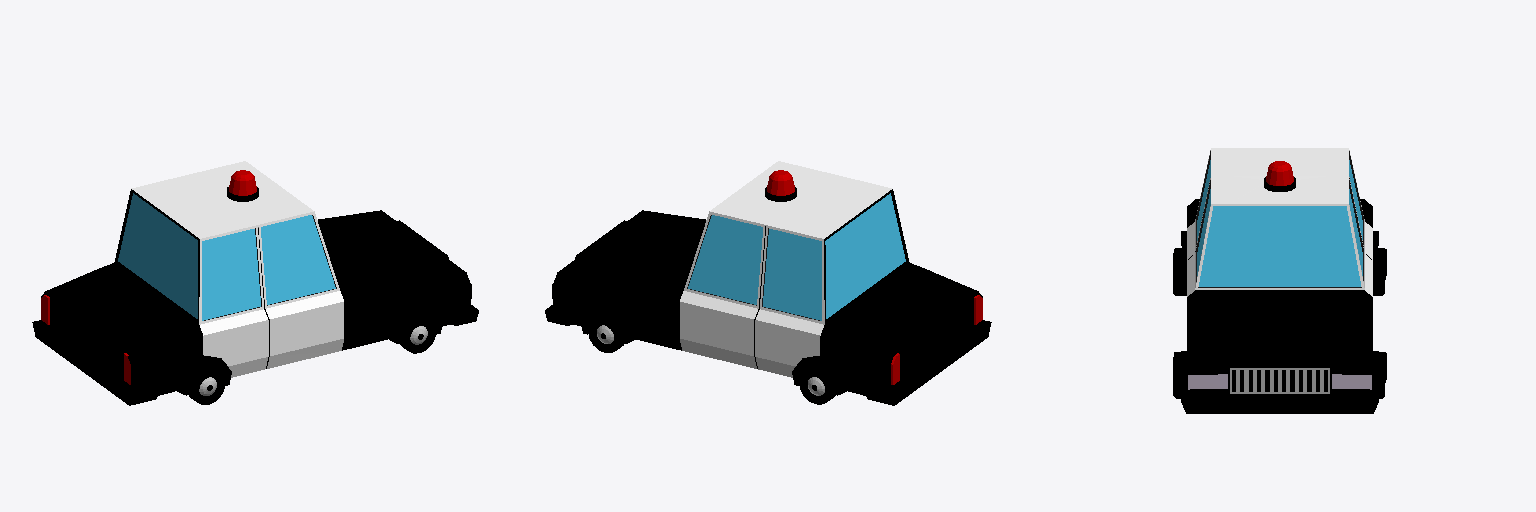
Rendered from cap.obj.
3 renders of one model, left to right at view 1: azimuth 30°, elevation 25°; view 2: azimuth 150°, elevation 25°; view 3: azimuth 270°, elevation 25°, orthographic.
Visible parts, largest first — view 1: cop_car; view 2: cop_car; view 3: cop_car.
Boxes of the visible parts, x1,y1,x2,y2 form: cop_car: [32, 161, 478, 405]; cop_car: [545, 161, 991, 405]; cop_car: [1173, 148, 1386, 413].
Size of the model in its own units: 4.97 by 2.36 by 2.63.